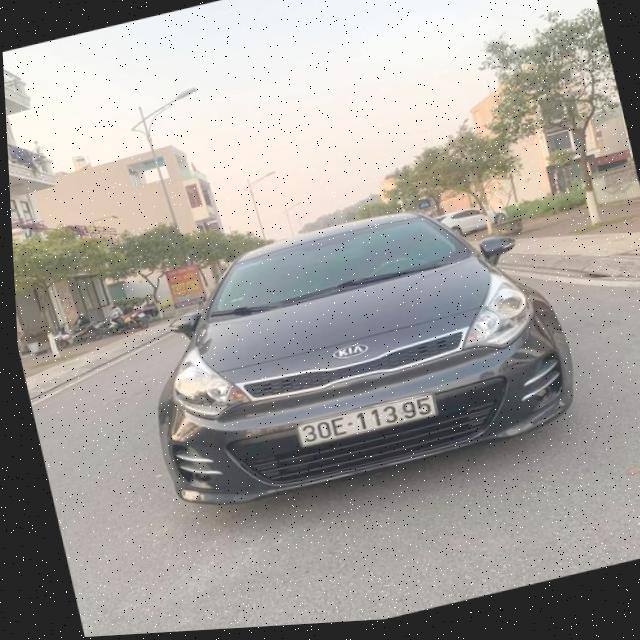car: (118, 172, 598, 531)
plate: (289, 384, 447, 459)
